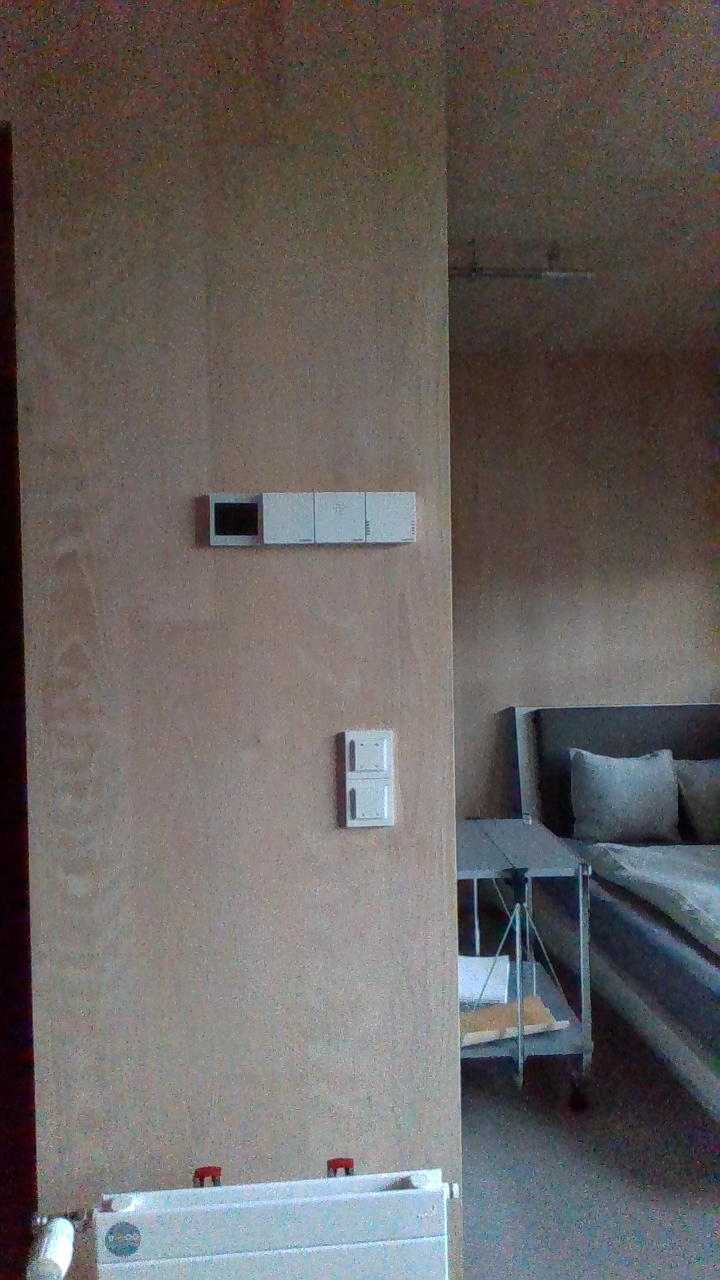Knob_Radiator: (15, 1210, 85, 1280)
Light_Switch: (341, 728, 392, 777), (342, 777, 392, 826)
Radiator: (88, 1161, 459, 1280)
